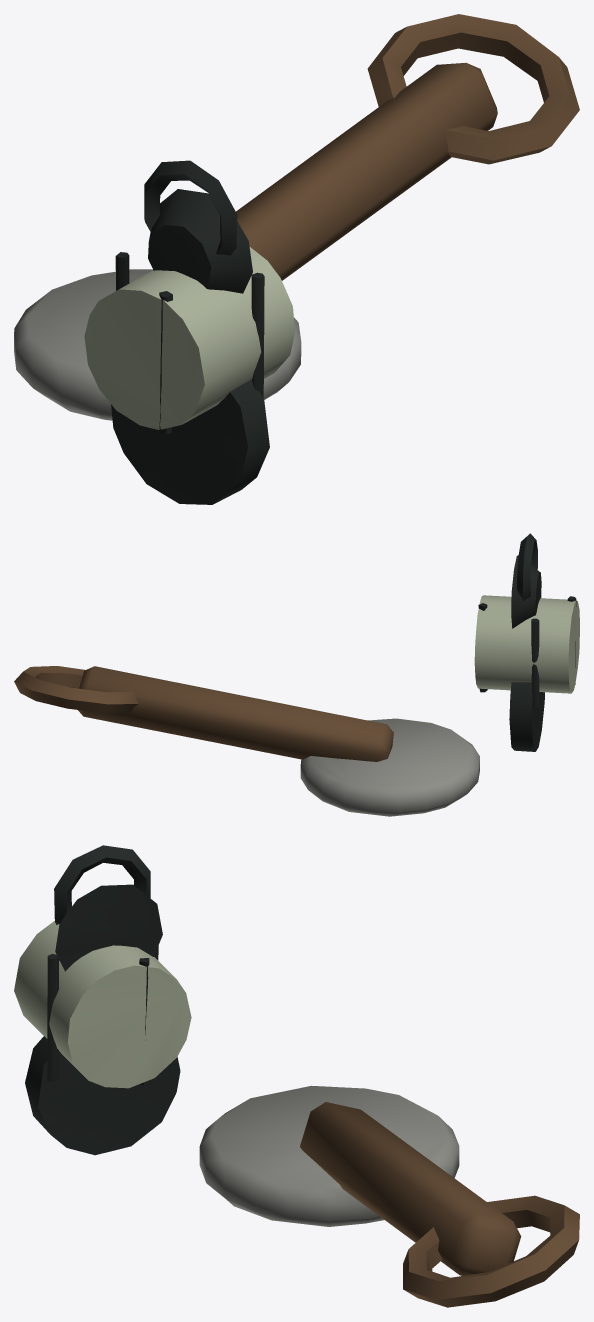
File: storm_lantern_c_lod1.glb
The picture shows the model from 3 angles, top to bottom: view 1: azimuth 30°, elevation 25°; view 2: azimuth 150°, elevation 25°; view 3: azimuth 270°, elevation 25°; orthographic projection. The views are drawn at different scales.
Parts seen in each view (by area): view 1: Surface.001; view 2: Surface.001; view 3: Surface.001.
Boxes of the visible parts, x1,y1,x2,y2 form: Surface.001: (14,14,579,504); Surface.001: (14,533,579,816); Surface.001: (14,845,579,1307).
Bounding box in the file's own units: 2.17 × 1.03 × 1.75.
